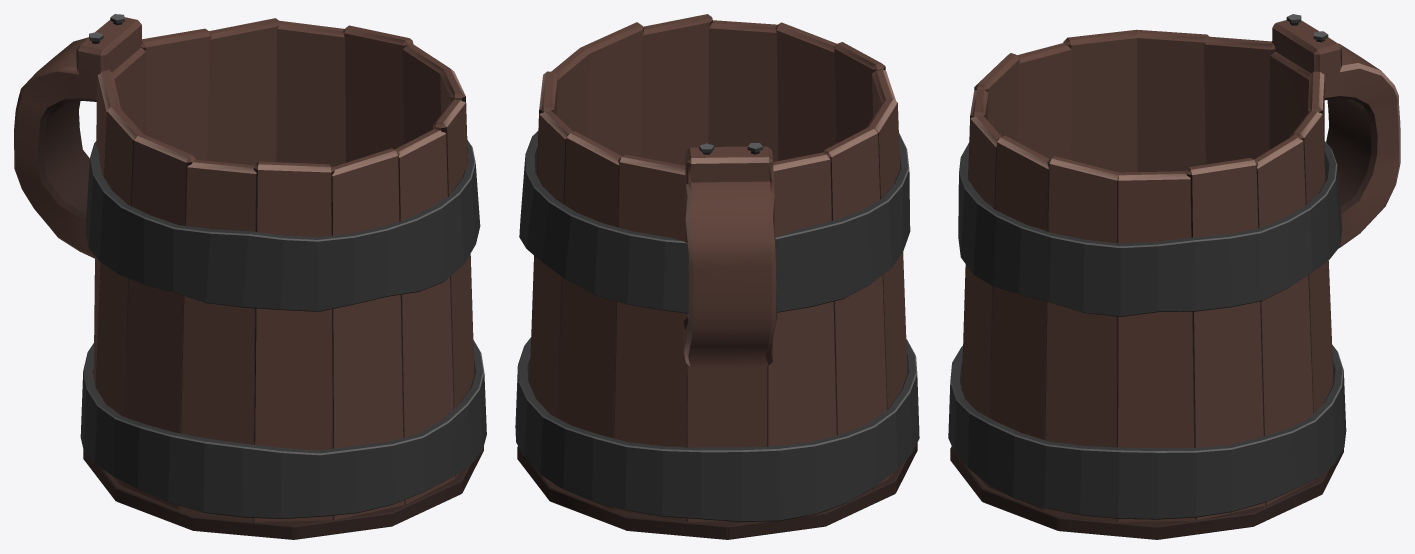
Rendered from UD_TIR_Tankard.fbx.
3 renders of one model, left to right at view 1: azimuth 30°, elevation 25°; view 2: azimuth 150°, elevation 25°; view 3: azimuth 270°, elevation 25°, orthographic.
Visible parts, largest first — view 1: Tankard; view 2: Tankard; view 3: Tankard.
Boxes of the visible parts, x1=… form: Tankard: x1=14, y1=14, x2=486, y2=539; Tankard: x1=515, y1=14, x2=919, y2=539; Tankard: x1=948, y1=14, x2=1400, y2=539.
Bounding box in the file's own units: 16.91 × 18.09 × 19.21.
